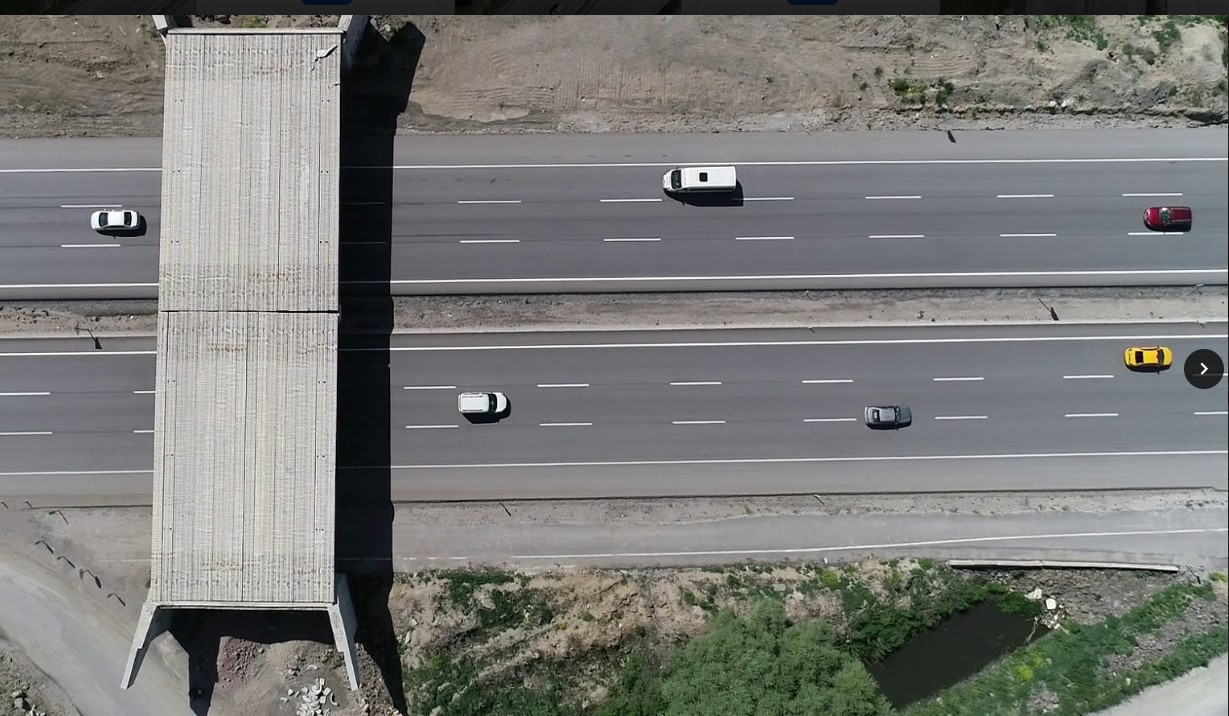araba: (658, 167, 741, 194), (89, 205, 140, 232), (458, 390, 509, 416), (1125, 343, 1174, 369), (1142, 206, 1193, 230), (864, 405, 911, 424)
